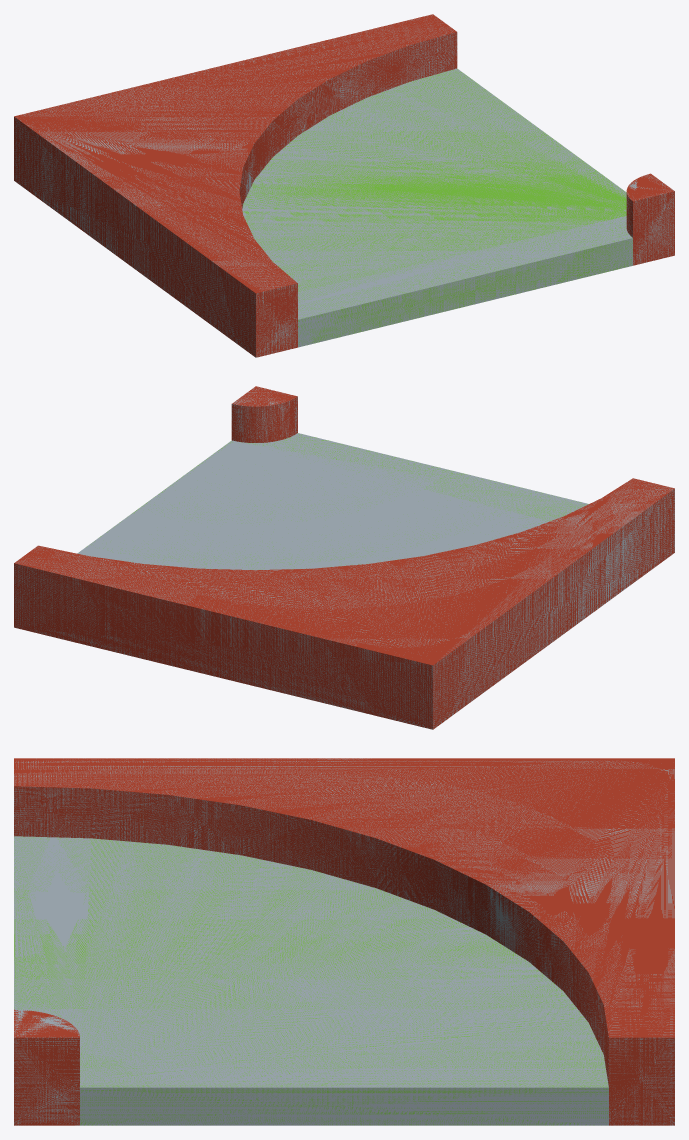
The model's file is Round_corner_2_01.obj.
3 renders of one model, top to bottom at view 1: azimuth 30°, elevation 25°; view 2: azimuth 150°, elevation 25°; view 3: azimuth 270°, elevation 25°, orthographic. The views are drawn at different scales.
Parts seen in each view (by area): view 1: Mesh1 Round_corner_2 Model; view 2: Mesh1 Round_corner_2 Model; view 3: Mesh1 Round_corner_2 Model.
Boxes of the visible parts, x1=… form: Mesh1 Round_corner_2 Model: x1=14, y1=14, x2=674, y2=357; Mesh1 Round_corner_2 Model: x1=14, y1=386, x2=674, y2=729; Mesh1 Round_corner_2 Model: x1=14, y1=758, x2=674, y2=1125.
Size of the model in its own units: 3 by 0.44 by 3.
